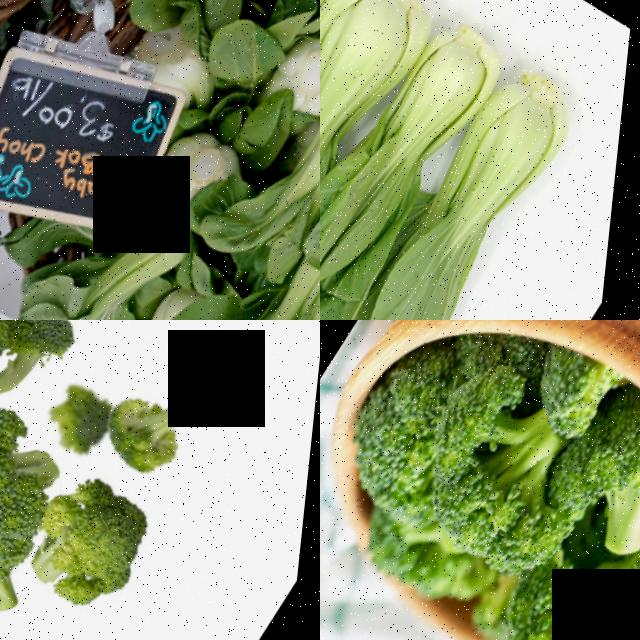bok choy: (320, 34, 611, 320), (320, 0, 520, 320), (320, 0, 453, 320), (31, 186, 192, 320), (228, 70, 320, 279), (214, 252, 320, 320), (88, 273, 237, 320)
broccoli: (409, 369, 602, 578), (24, 463, 183, 618), (320, 375, 454, 518), (83, 351, 224, 486), (0, 378, 86, 578), (555, 390, 640, 552), (502, 542, 640, 640), (0, 320, 90, 407)
